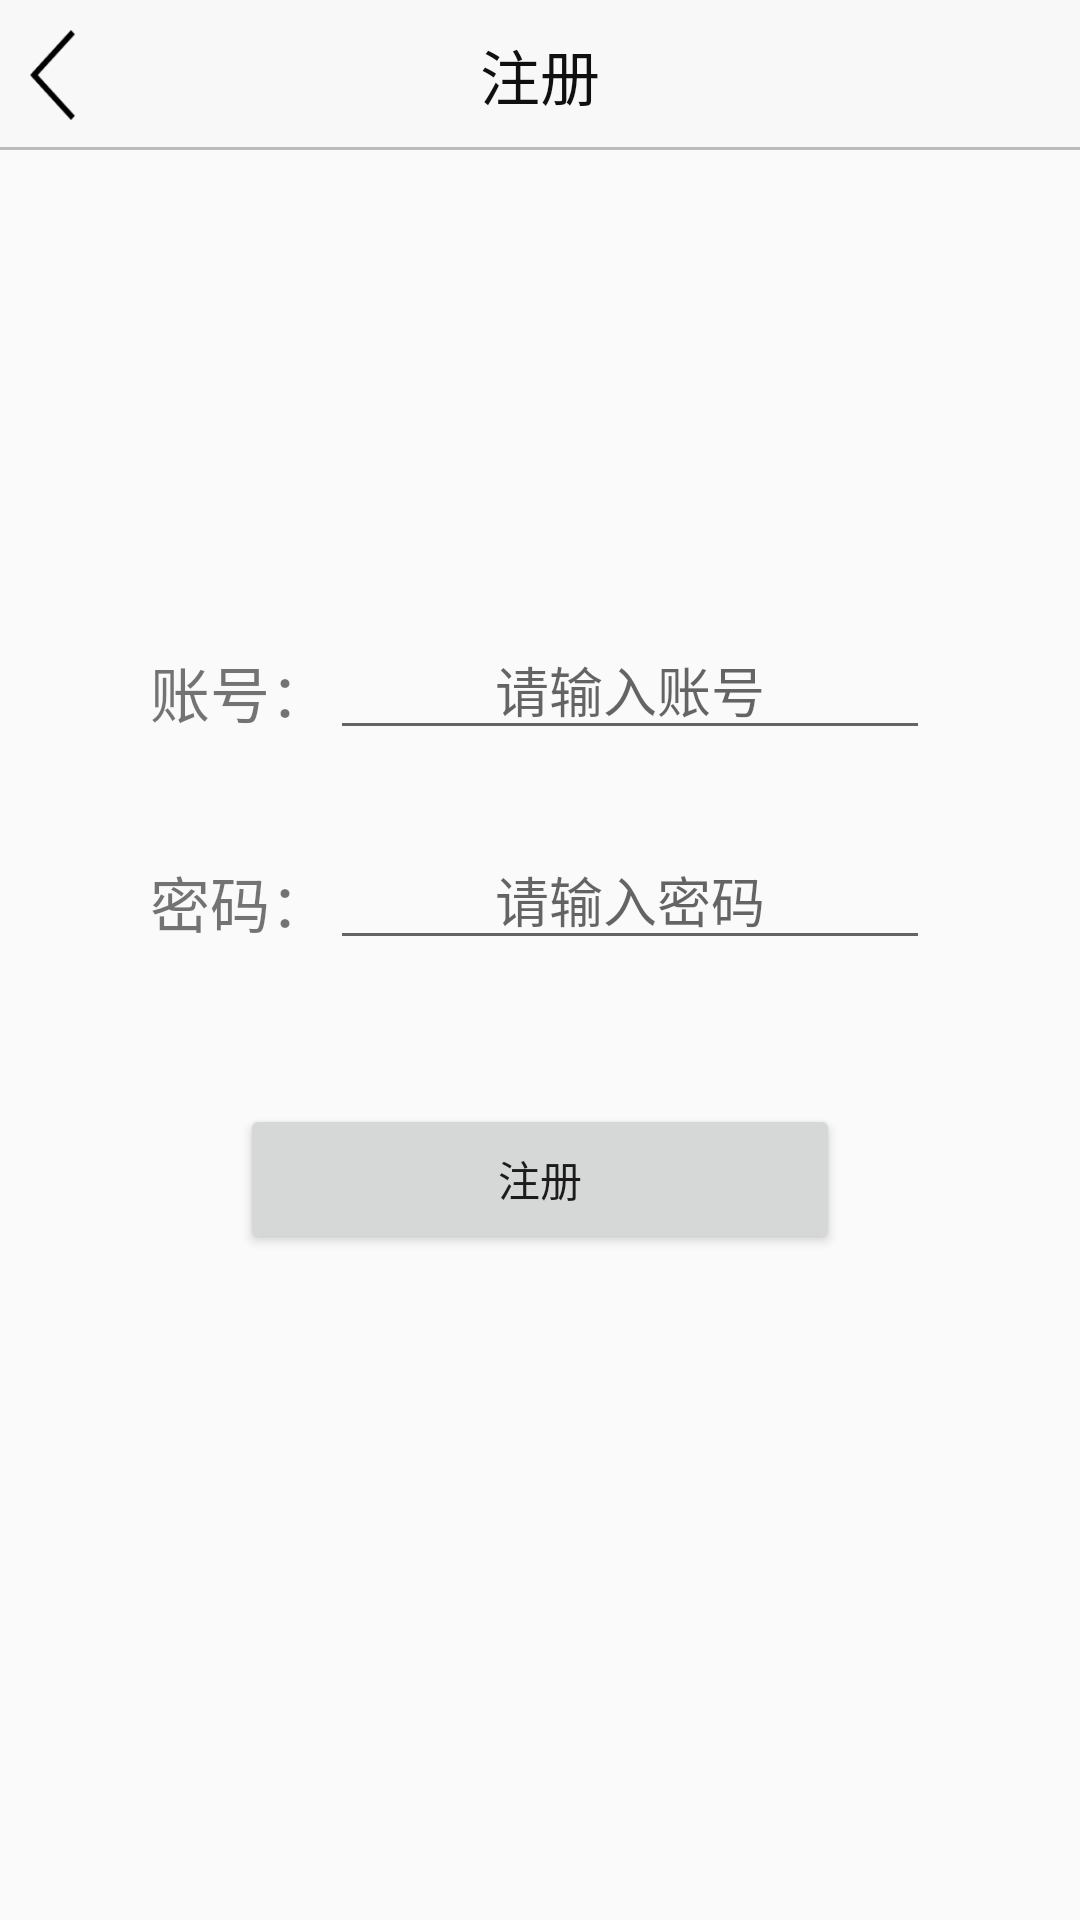

Where to tap for icons on this 1080px x 1920px app screen, as [x,y]:
back: [52,75]
